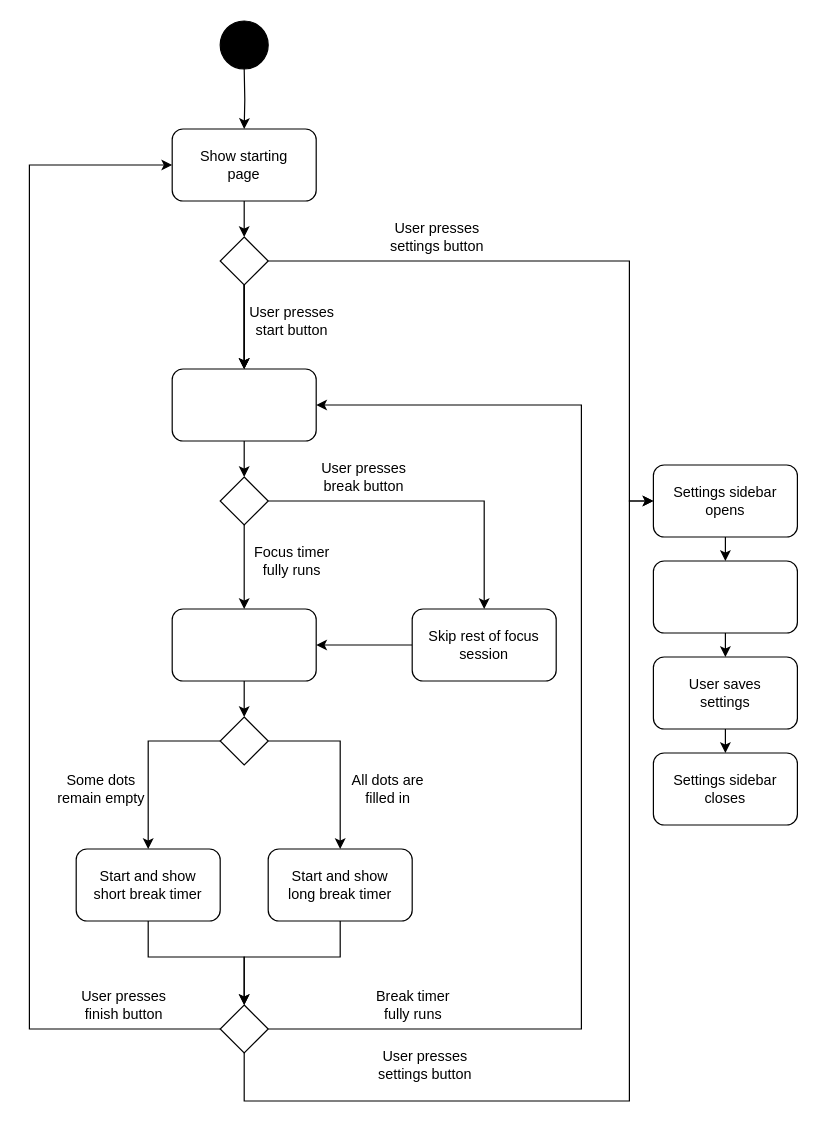
This 818x1132 diagram has some shape labels left out. The shapes that lost their labels are listed below. From the top down, each one's centre as x and y in pixels, then its label:
the point at 243,404: Start and show focus timer
the point at 724,596: User customizes settings
the point at 243,644: Fill in next pomo dot
